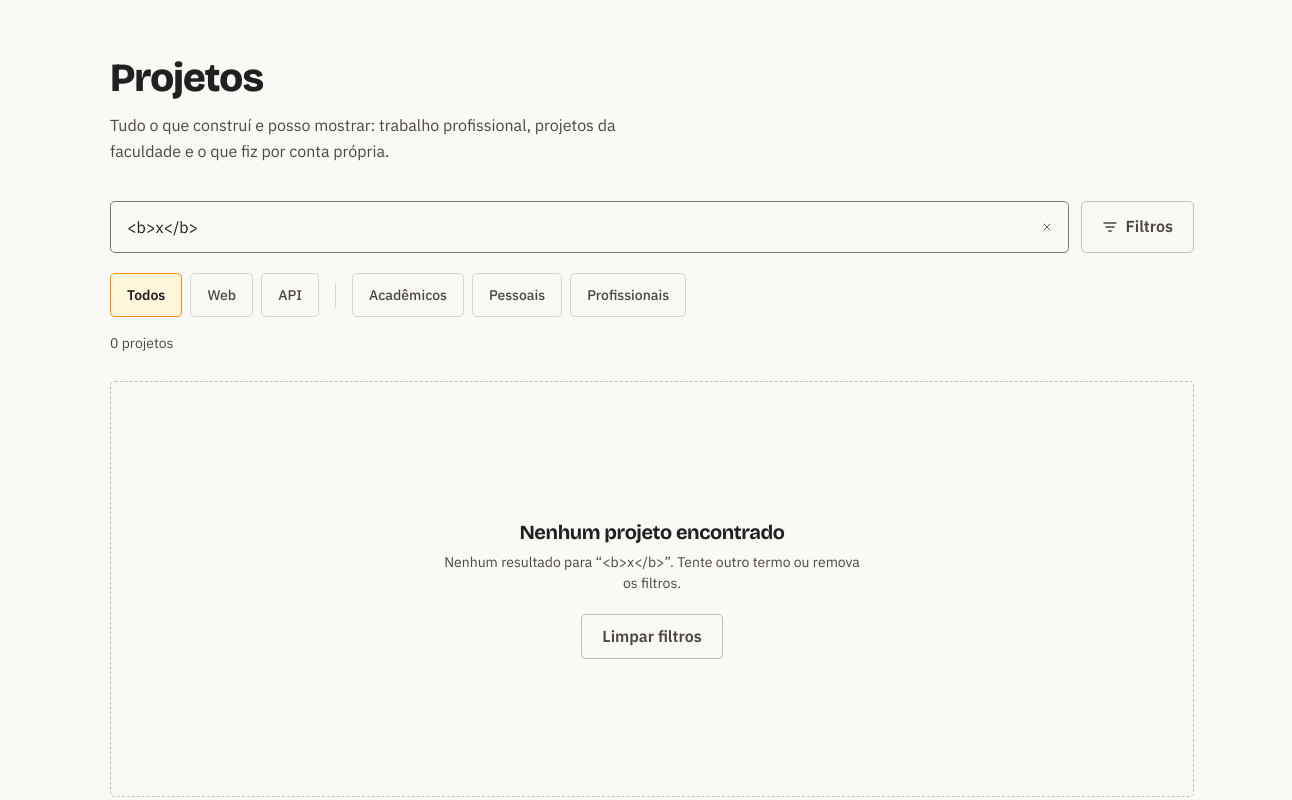
Scenario: ProjectsPage › mostra o estado sem resultado com o termo como texto e o botão que limpa
Expected: the text "Nenhum resultado para “<b>x</b>”. Tente outro termo ou remova os filtros." is shown, [444, 552, 860, 594]
Expected: the message reads "0 projetos", [110, 334, 173, 352]
What coordinates should you click on to do the following:
click the button "Limpar filtros"
I would click on:
 (652, 636)
Its box is [581, 614, 723, 659].
(page scrolled)
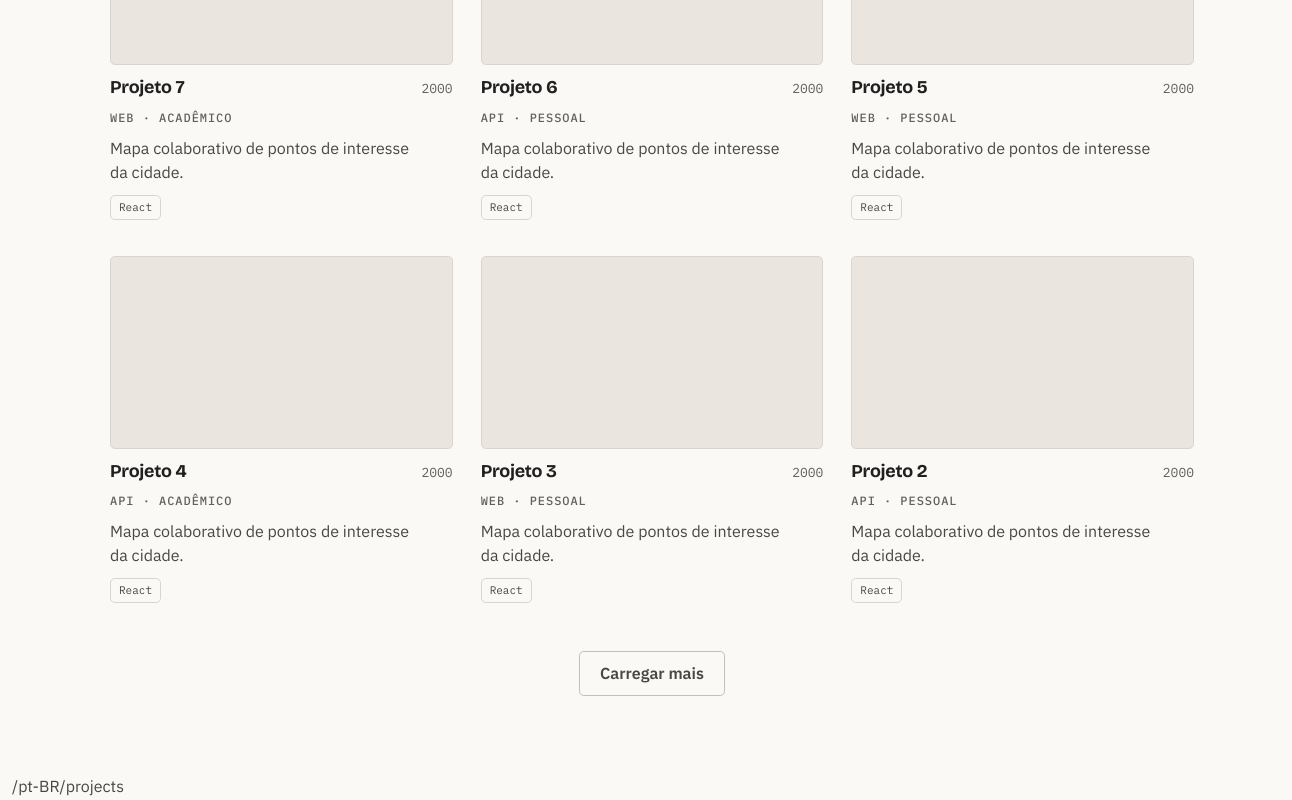
Now the text with test id "location" reads "/pt-BR/projects", box [12, 776, 124, 796]
